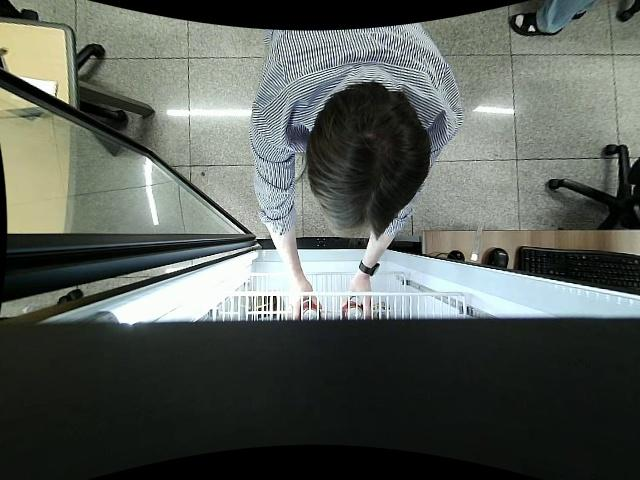00_hand: (285, 279, 324, 319), (339, 282, 374, 319)
11_cocaColaZero: (341, 302, 364, 324), (299, 303, 318, 319)
